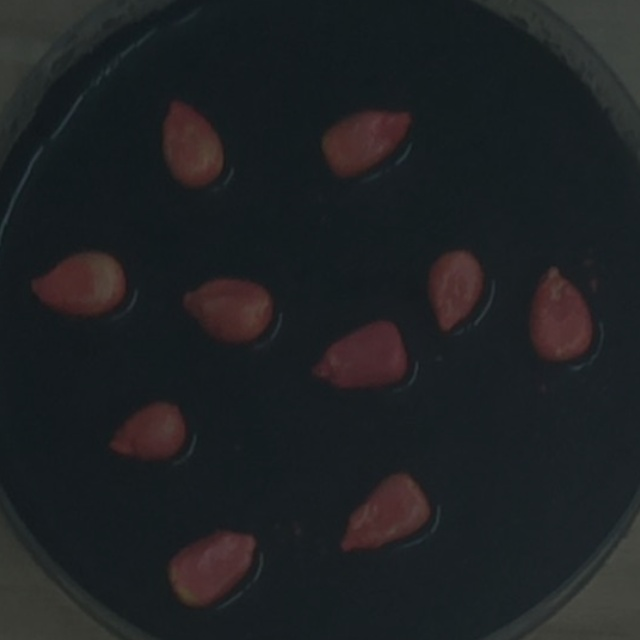Zea mays: (329, 464, 439, 562), (156, 522, 266, 617), (302, 309, 417, 399), (19, 241, 135, 325), (519, 255, 602, 370), (311, 98, 420, 185), (174, 268, 281, 354), (152, 90, 230, 195), (417, 240, 493, 342), (99, 391, 194, 470)
